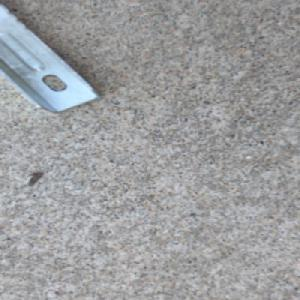ClampPart: (0, 0, 105, 114)
